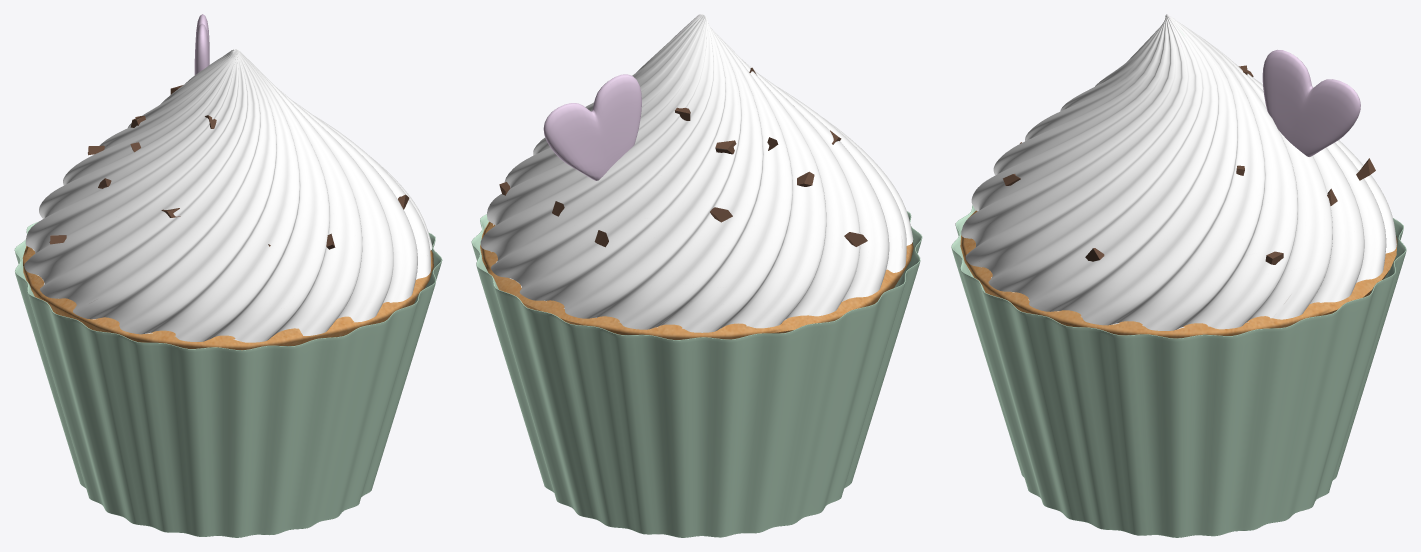
The model's file is muffin3.fbx.
3 renders of one model, left to right at view 1: azimuth 30°, elevation 25°; view 2: azimuth 150°, elevation 25°; view 3: azimuth 270°, elevation 25°, orthographic. The views are drawn at different scales.
Visible parts, largest first — view 1: pCylinder28; view 2: pCylinder28; view 3: pCylinder28.
Boxes of the visible parts, x1=… form: pCylinder28: x1=14, y1=14, x2=442, y2=537; pCylinder28: x1=471, y1=14, x2=922, y2=537; pCylinder28: x1=951, y1=14, x2=1406, y2=537.
Bounding box in the file's own units: 211 × 235 × 212.
1 material, 1 textured.
